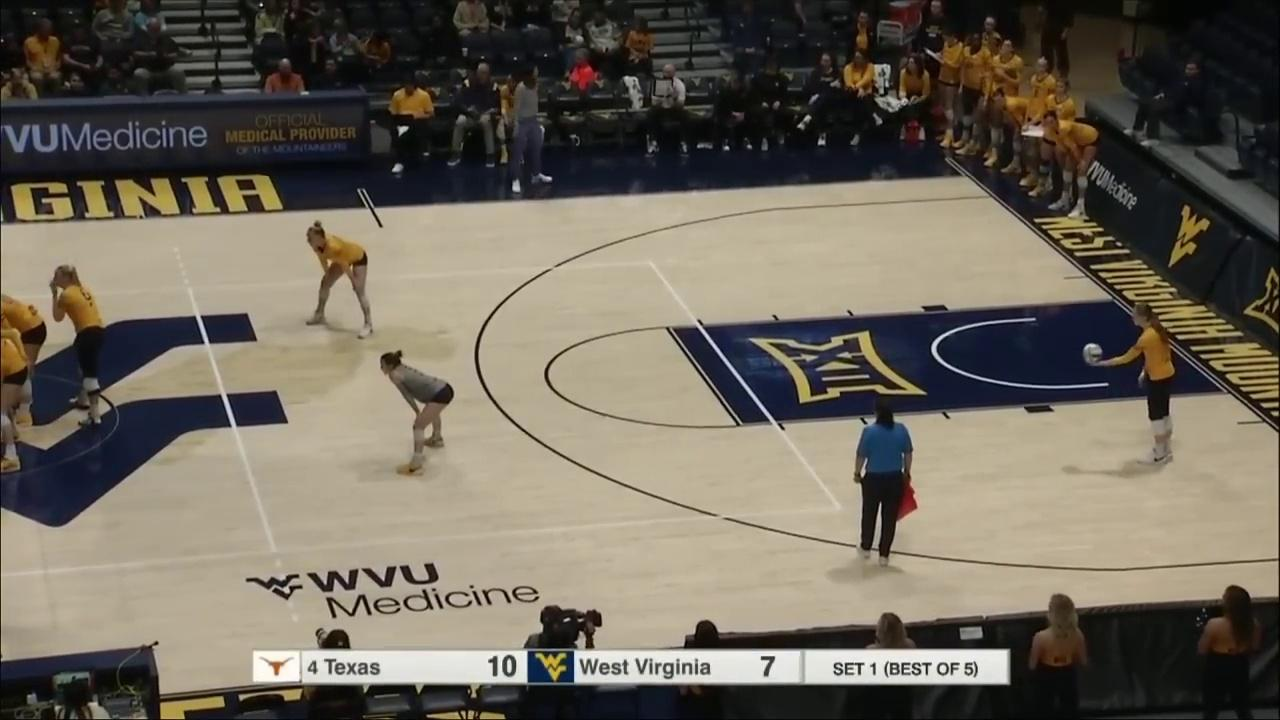player: (1101, 300, 1177, 463), (380, 352, 457, 476), (55, 263, 108, 433), (301, 225, 373, 342), (0, 292, 46, 425), (0, 335, 35, 477)
refree: (851, 395, 915, 566)
